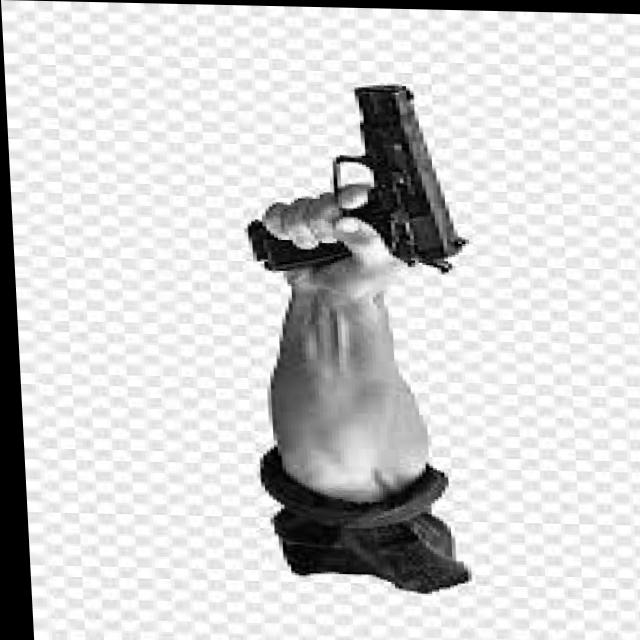handgun: (241, 81, 478, 275)
